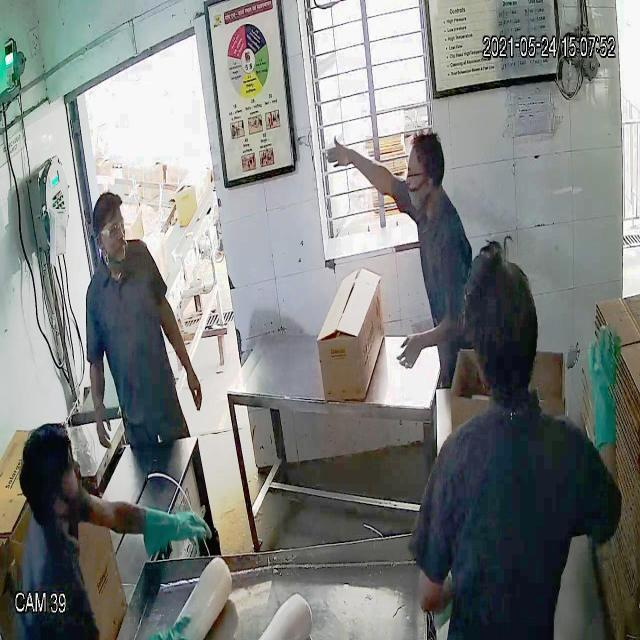glasses: (93, 216, 129, 244), (403, 163, 439, 190)
